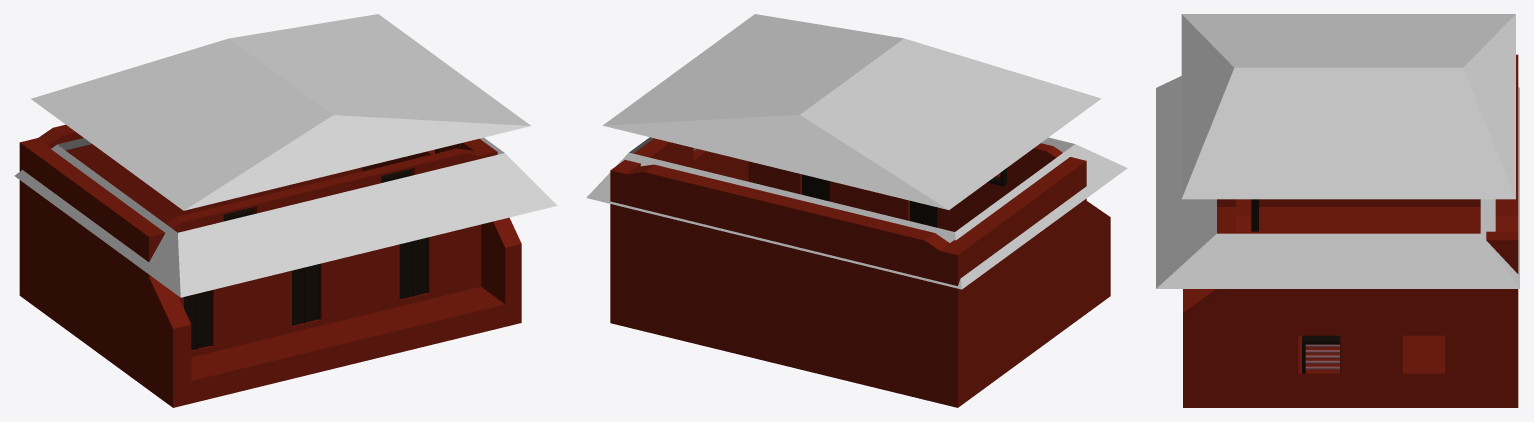
File: house.obj
The picture shows the model from 3 angles, left to right: view 1: azimuth 30°, elevation 25°; view 2: azimuth 150°, elevation 25°; view 3: azimuth 270°, elevation 25°; orthographic projection. The views are drawn at different scales.
Visible parts, largest first — view 1: Roof_village_Plane, Structure_village_Cube, wood_door.002_Cube.022, wood_door_Cube.011, wood_door.001_Cube.021; view 2: Structure_village_Cube, Roof_village_Plane, wood_door_Cube.011, wood_door.002_Cube.022; view 3: Roof_village_Plane, Structure_village_Cube, WIndow_rail.003_Cylinder.006, Window_frame.003_Cube.019.
Boxes of the visible parts, left/top/right/bottom form: Roof_village_Plane: left=14, top=14, right=557, bottom=297; Structure_village_Cube: left=19, top=124, right=521, bottom=407; wood_door.002_Cube.022: left=399, top=237, right=428, bottom=299; wood_door_Cube.011: left=292, top=264, right=320, bottom=325; wood_door.001_Cube.021: left=184, top=290, right=212, bottom=350; Structure_village_Cube: left=610, top=138, right=1110, bottom=407; Roof_village_Plane: left=586, top=14, right=1127, bottom=289; wood_door_Cube.011: left=910, top=200, right=937, bottom=227; wood_door.002_Cube.022: left=802, top=174, right=829, bottom=201; Roof_village_Plane: left=1156, top=14, right=1519, bottom=288; Structure_village_Cube: left=1183, top=54, right=1518, bottom=407; WIndow_rail.003_Cylinder.006: left=1305, top=344, right=1339, bottom=369; Window_frame.003_Cube.019: left=1302, top=335, right=1340, bottom=373.
Bounding box in the file's own units: 46.07 × 26.96 × 35.25.
